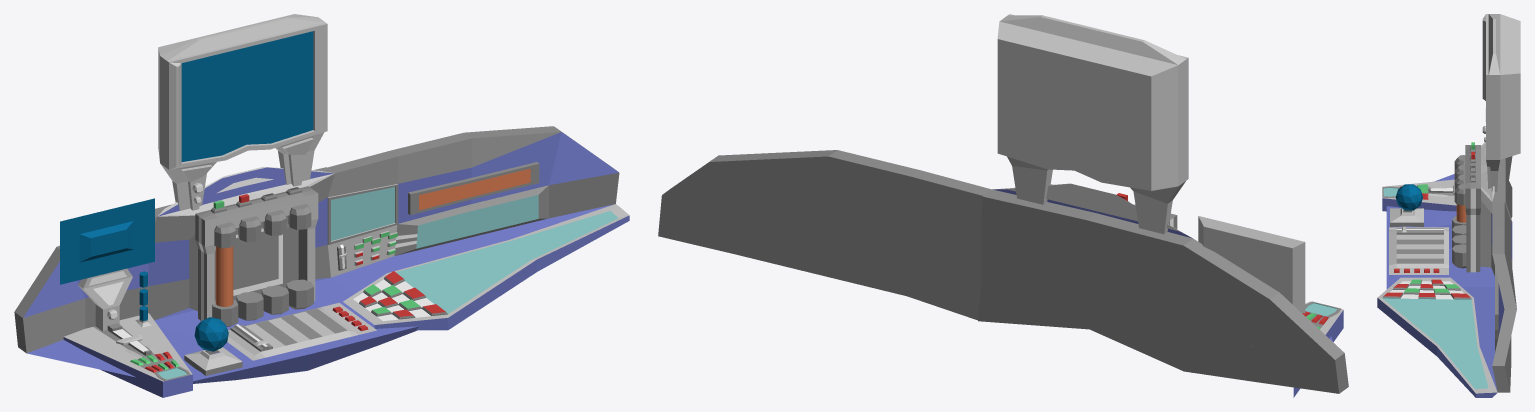
The model's file is ControlPanel_Preset04.fbx.
3 renders of one model, left to right at view 1: azimuth 30°, elevation 25°; view 2: azimuth 150°, elevation 25°; view 3: azimuth 270°, elevation 25°, orthographic. The views are drawn at different scales.
Parts seen in each view (by area): view 1: Table_Controlpanel, Ecran02, Base_cylindre_hyperspace, Table_Controlpanel.008, Ecran01_jump, Plaque_cursor_augmentation_hyperspace, Ecran04, ecran03, Ecran_energie, Button_Jump, Cymindre_jauge hyperspace, Socle_plantene_controlpanel (+1 smaller); view 2: Table_Controlpanel; view 3: Table_Controlpanel, Table_Controlpanel.008, Base_cylindre_hyperspace, Plaque_cursor_augmentation_hyperspace, Socle_plantene_controlpanel, Planete_controlPanel_navig, Base_cursor_augmentation_hyperspace.001, Cymindre_jauge hyperspace.
Boxes of the visible parts, x1=… form: Table_Controlpanel: x1=14, y1=14, x2=629, y2=397; Ecran02: x1=181, y1=31, x2=313, y2=161; Base_cylindre_hyperspace: x1=195, y1=186, x2=318, y2=326; Table_Controlpanel.008: x1=396, y1=211, x2=618, y2=313; Ecran01_jump: x1=60, y1=198, x2=154, y2=284; Plaque_cursor_augmentation_hyperspace: x1=227, y1=302, x2=376, y2=360; Ecran04: x1=416, y1=195, x2=538, y2=248; ecran03: x1=331, y1=187, x2=394, y2=240; Ecran_energie: x1=419, y1=168, x2=530, y2=210; Button_Jump: x1=79, y1=221, x2=133, y2=262; Cymindre_jauge hyperspace: x1=215, y1=246, x2=233, y2=306; Socle_plantene_controlpanel: x1=184, y1=347, x2=242, y2=375; Table_Controlpanel: x1=658, y1=14, x2=1348, y2=397; Table_Controlpanel: x1=1377, y1=14, x2=1520, y2=397; Table_Controlpanel.008: x1=1383, y1=298, x2=1488, y2=388; Base_cylindre_hyperspace: x1=1452, y1=145, x2=1480, y2=272; Plaque_cursor_augmentation_hyperspace: x1=1389, y1=227, x2=1448, y2=274; Socle_plantene_controlpanel: x1=1390, y1=208, x2=1423, y2=227; Planete_controlPanel_navig: x1=1395, y1=184, x2=1422, y2=210; Base_cursor_augmentation_hyperspace.001: x1=1396, y1=228, x2=1443, y2=234; Cymindre_jauge hyperspace: x1=1456, y1=204, x2=1466, y2=222.
Bounding box in the file's own units: 490 × 231 × 129.
